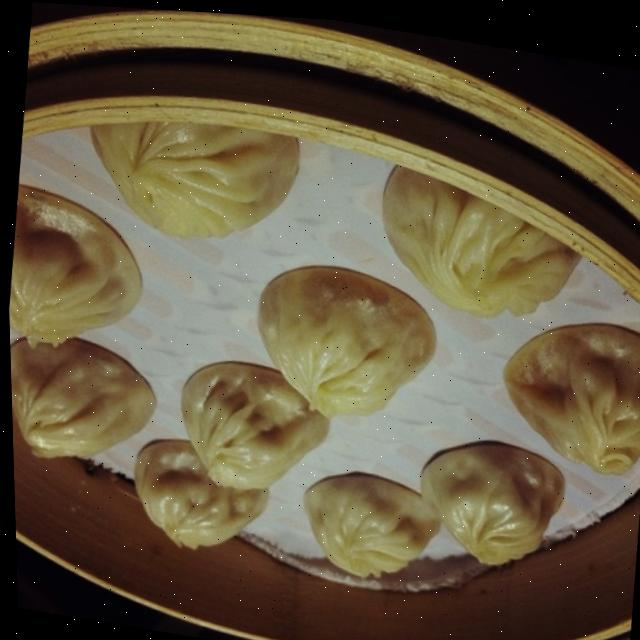带馅早点: (1, 33, 640, 640)
